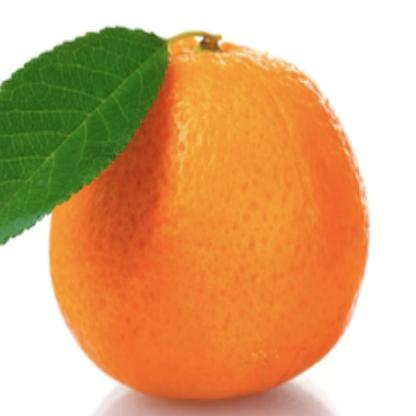fresh: (47, 30, 369, 400)
